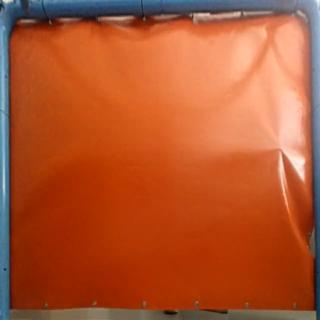Hit-hRxx: (270, 142, 292, 159)
